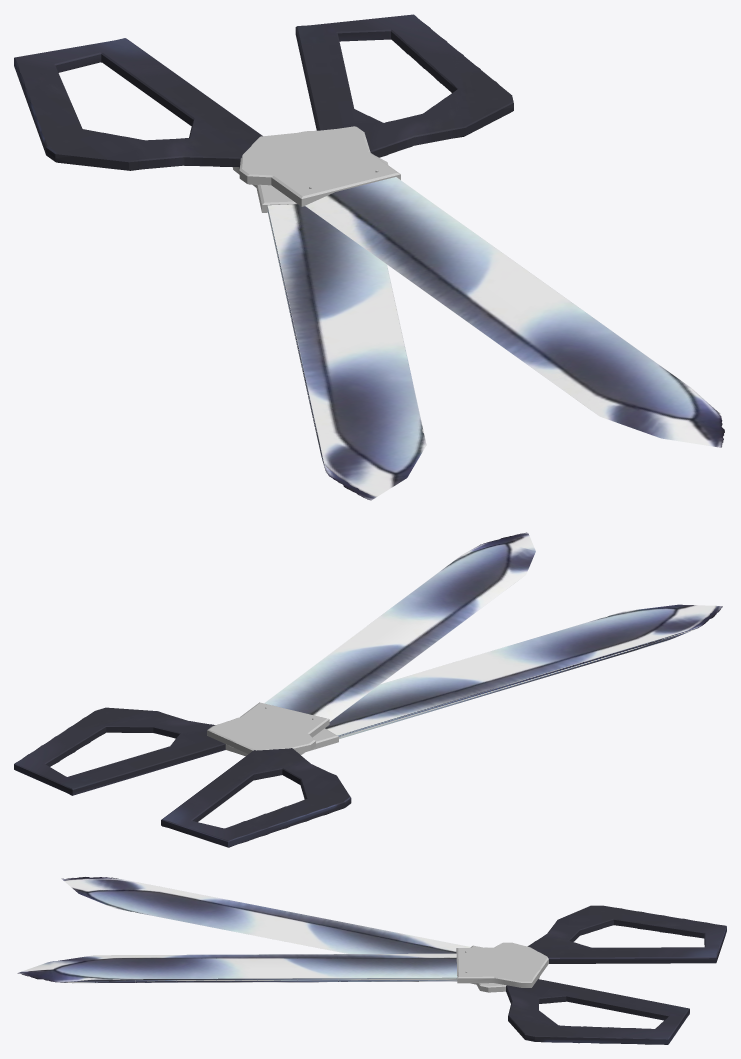
The model's file is scissors.FBX.
3 views of the same model, one above another, from view 1: azimuth 30°, elevation 25°; view 2: azimuth 150°, elevation 25°; view 3: azimuth 270°, elevation 25° (orthographic). The views are drawn at different scales.
Parts seen in each view (by area): view 1: Object002; view 2: Object002; view 3: Object002.
Part boxes in pixels (x1=…): Object002: x1=14, y1=14, x2=724, y2=500; Object002: x1=14, y1=532, x2=722, y2=847; Object002: x1=17, y1=877, x2=726, y2=1044.
Size of the model in its own units: 32.15 by 1.28 by 59.13.
